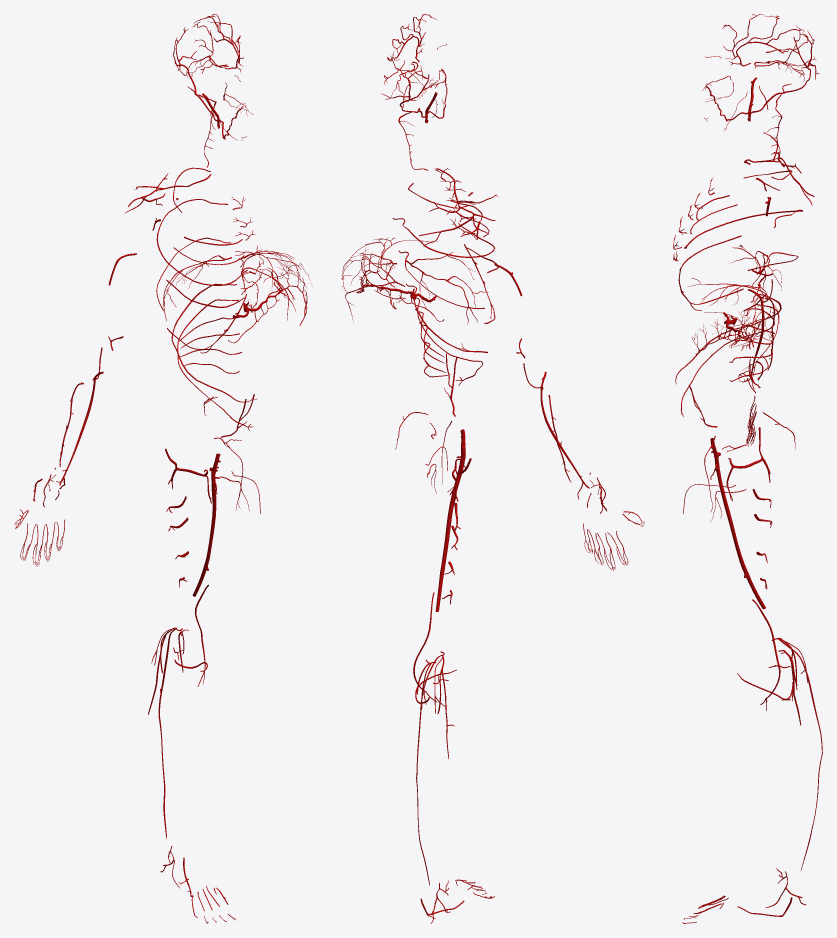
The model's file is cardiovascular-06.glb.
The picture shows the model from 3 angles, left to right: view 1: azimuth 30°, elevation 25°; view 2: azimuth 150°, elevation 25°; view 3: azimuth 270°, elevation 25°; orthographic projection. The views are drawn at different scales.
Parts seen in each view (by area): view 1: ATLAS_Art_M4018, ATLAS_Art_M4001; view 2: ATLAS_Art_M4018, ATLAS_Art_M4001, ATLAS_Art_M2036; view 3: ATLAS_Art_M4001, ATLAS_Art_M4018, ATLAS_Art_M2036, ATLAS_Art_M2206, ATLAS_Art_M1101, ATLAS_Art_M1001, ATLAS_Art_M2302.
Boxes of the visible parts, x1=… form: ATLAS_Art_M4018: x1=148, y1=627, x2=182, y2=838; ATLAS_Art_M4001: x1=192, y1=467, x2=220, y2=596; ATLAS_Art_M4018: x1=416, y1=651, x2=448, y2=885; ATLAS_Art_M4001: x1=435, y1=446, x2=465, y2=611; ATLAS_Art_M2036: x1=341, y1=238, x2=487, y2=323; ATLAS_Art_M4001: x1=710, y1=452, x2=765, y2=609; ATLAS_Art_M4018: x1=771, y1=637, x2=822, y2=870; ATLAS_Art_M2036: x1=723, y1=244, x2=781, y2=346; ATLAS_Art_M2206: x1=687, y1=278, x2=779, y2=379; ATLAS_Art_M1101: x1=722, y1=14, x2=804, y2=65; ATLAS_Art_M1001: x1=751, y1=29, x2=818, y2=112; ATLAS_Art_M2302: x1=744, y1=132, x2=814, y2=205.
Size of the model in its own units: 2.38 by 6.81 by 1.
